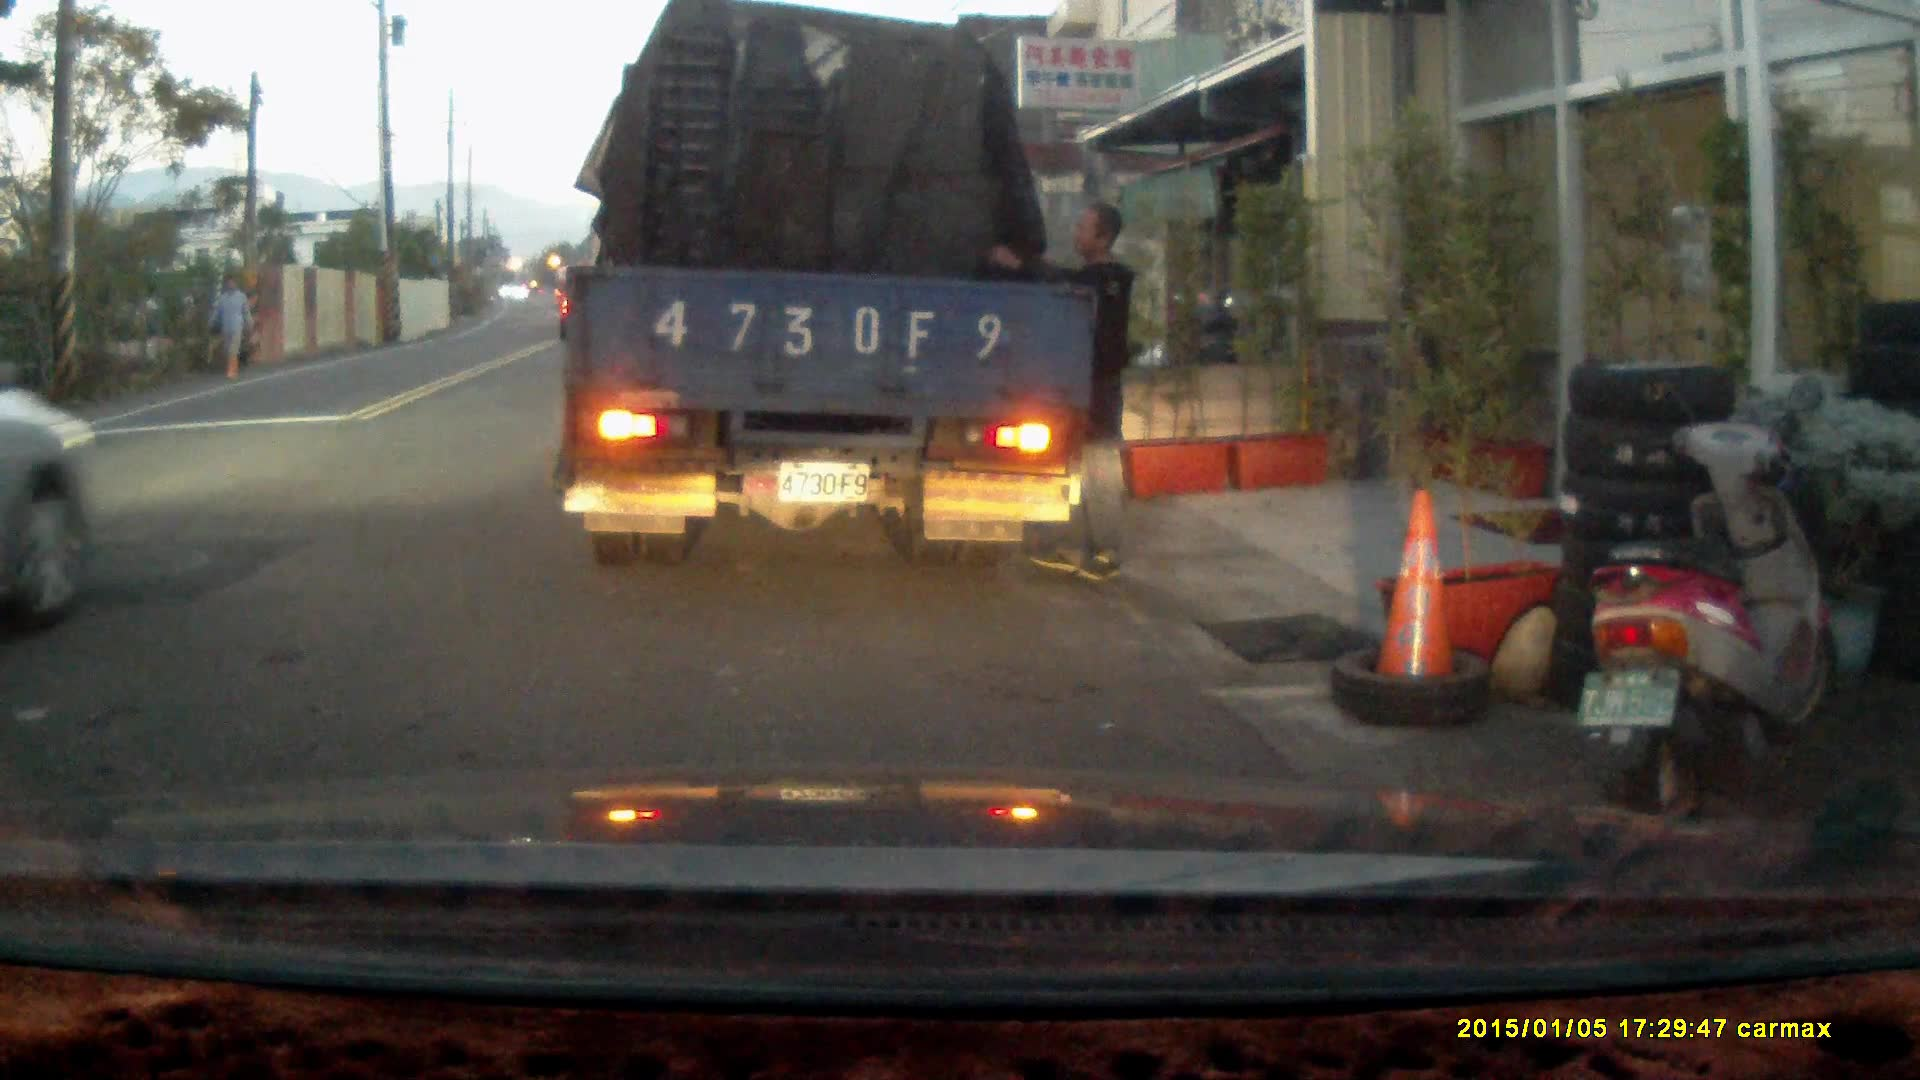pedestrian: (987, 200, 1131, 581), (211, 270, 251, 382)
vehicle: (565, 23, 1097, 572), (1, 383, 91, 642)
